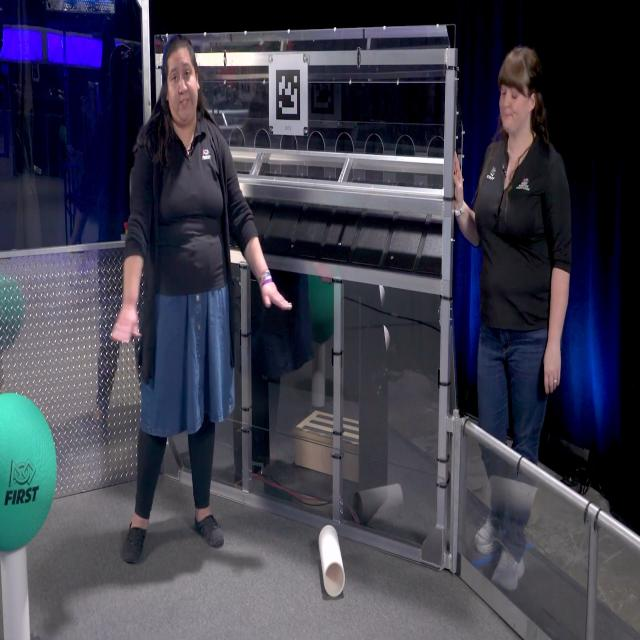Algae: (0, 393, 57, 552)
Coral: (0, 547, 31, 640), (318, 525, 346, 599)
